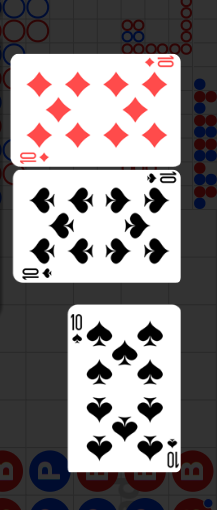10D: (143, 57, 175, 69)
10S: (164, 435, 178, 469), (21, 267, 54, 281)
